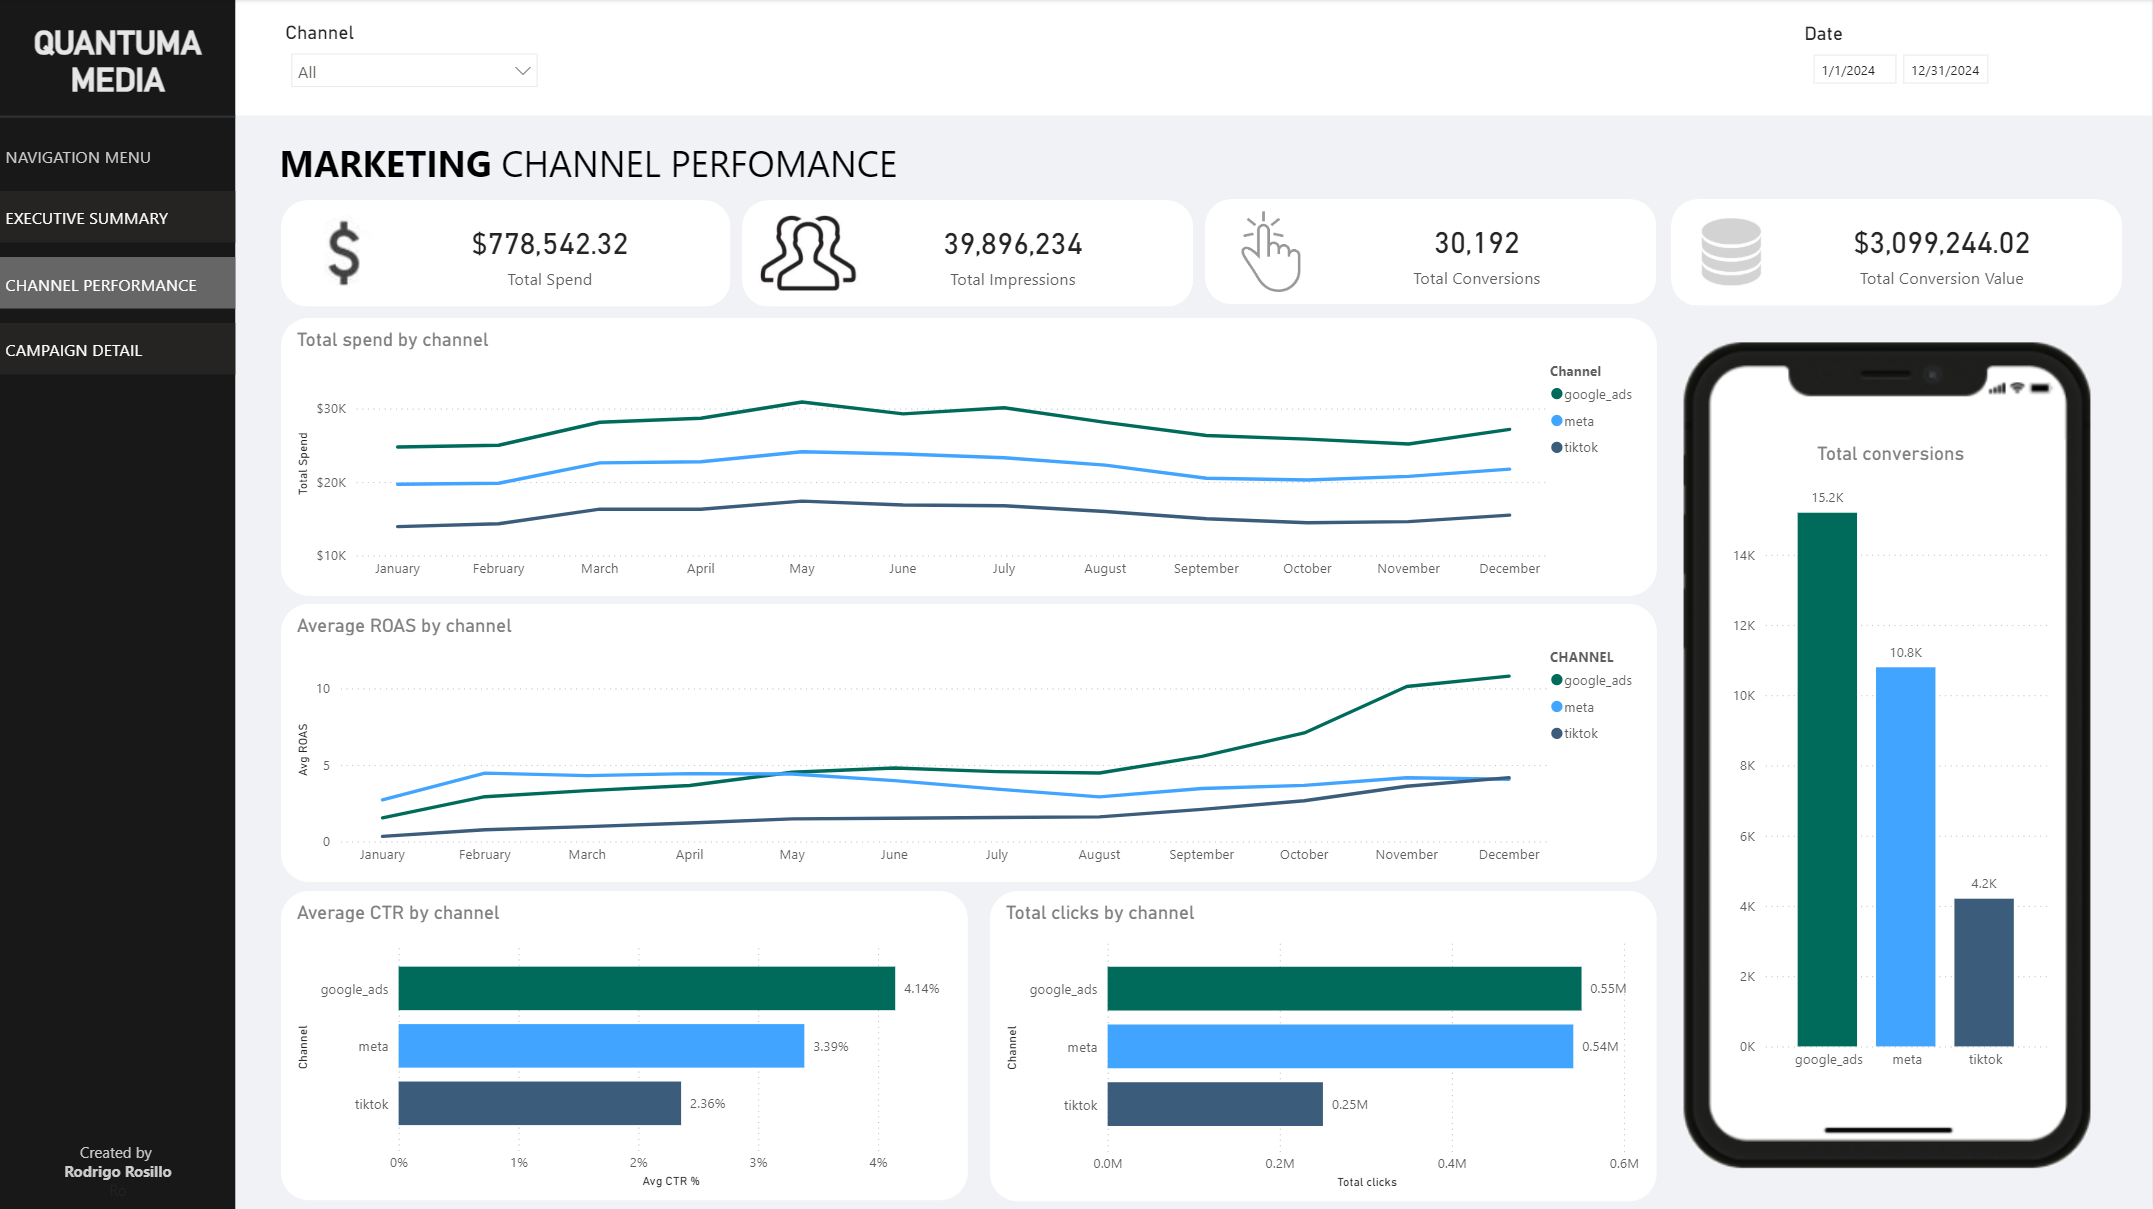

What the dashboard file says about the page in this screenshot:
{"tool":"powerbi","page":{"name":"Channel Performance","canvas":[1920,1080],"ordinal":1},"visuals":[{"type":"image","box":[1460.7,276.3,459.3,783.9],"z":0},{"type":"shape","box":[0,0,1920.6,103.9],"z":1000},{"type":"shape","box":[0,0,210.5,1080],"z":2000},{"type":"shape","box":[0,83.8,210.4,42.3],"z":3000},{"type":"textbox","box":[0,124.6,210.5,34.2],"z":4000},{"type":"shape","box":[0,171.3,210.5,46],"z":5000},{"type":"textbox","title":"(2) Pages 1 - TXT 1","box":[0,179.7,210.6,37.1],"z":6000},{"type":"shape","box":[0,230.4,210.5,46],"z":7000},{"type":"textbox","title":"(2) Pages 1 - TXT 1","box":[0,238.8,210.6,37.1],"z":8000},{"type":"shape","title":"(2) Pages 2 - Click","box":[0,170.5,211.1,46.1],"z":9000},{"type":"shape","box":[0,289.1,210.5,46],"z":10000},{"type":"textbox","title":"(2) Pages 1 - TXT 1","box":[0,297.5,210.6,37.1],"z":11000},{"type":"shape","title":"(2) Pages 2 - Click","box":[0,288.5,211.1,47],"z":12000},{"type":"textbox","box":[245,118.5,695.4,63.2],"z":13000},{"type":"slicer","title":"Channel","fields":{"Values":["FCT_CHANNEL_DAILY.CHANNEL"]},"box":[250.3,19.6,240.5,72.6],"z":14000},{"type":"shape","box":[250.5,179.4,401.4,95.4],"z":15000},{"type":"card","fields":{"Values":["Sum(FCT_CHANNEL_DAILY.TOTAL_SPEND)"]},"box":[331.5,179.6,319.4,95],"z":16000},{"type":"shape","box":[662,179.6,402.8,95.4],"z":17000},{"type":"card","fields":{"Values":["Sum(FCT_CHANNEL_DAILY.TOTAL_IMPRESSIONS)"]},"box":[744.2,179.6,319.4,95],"z":18000},{"type":"shape","box":[1076,178.9,402.8,93.9],"z":19000},{"type":"card","fields":{"Values":["Sum(FCT_CHANNEL_DAILY.TOTAL_CONVERSIONS)"]},"box":[1158.6,177.8,319.4,96.7],"z":20000},{"type":"shape","box":[1491.5,178.6,402.8,95.4],"z":21000},{"type":"card","fields":{"Values":["Sum(FCT_CHANNEL_DAILY.TOTAL_CONVERSION_VALUE)"]},"box":[1572.9,177.8,321.2,96.7],"z":22000},{"type":"image","box":[1509.8,185.3,70.1,80.2],"z":23000},{"type":"image","box":[1091.6,178.9,82.6,93.9],"z":24000},{"type":"slicer","title":"Date","fields":{"Values":["FCT_CHANNEL_DAILY.DATE"]},"box":[1605.9,20.6,314.1,105],"z":25000},{"type":"lineChart","title":"Total spend by channel","fields":{"Y":["Sum(FCT_CHANNEL_DAILY.TOTAL_SPEND)"],"Series":["FCT_CHANNEL_DAILY.CHANNEL"],"Category":["FCT_CHANNEL_DAILY.DATE.Variation.Date Hierarchy.Month","FCT_CHANNEL_DAILY.DATE.Variation.Date Hierarchy.Day"]},"box":[250.7,284.8,1227.8,248],"z":26000},{"type":"lineChart","title":"Average ROAS by channel","fields":{"Series":["FCT_CHANNEL_DAILY.CHANNEL"],"Y":["Avg(FCT_CHANNEL_DAILY.AVG_ROAS)"],"Category":["FCT_CHANNEL_DAILY.DATE.Variation.Date Hierarchy.Month","FCT_CHANNEL_DAILY.DATE.Variation.Date Hierarchy.Day"]},"box":[250.7,540.1,1227.8,248],"z":27000},{"type":"clusteredBarChart","title":"Average CTR by channel","fields":{"Category":["FCT_CHANNEL_DAILY.CHANNEL"],"Y":["FCT_CHANNEL_DAILY.Avg CTR %"]},"box":[250.7,796.4,613,275.6],"z":28000},{"type":"columnChart","title":"Total conversions","fields":{"Category":["FCT_CHANNEL_DAILY.CHANNEL"],"Y":["Sum(FCT_CHANNEL_DAILY.TOTAL_CONVERSIONS)"]},"box":[1532.9,386.2,307.9,584.4],"z":29000},{"type":"clusteredBarChart","title":"Total clicks by channel","fields":{"Category":["FCT_CHANNEL_DAILY.CHANNEL"],"Y":["Sum(FCT_CHANNEL_DAILY.TOTAL_CLICKS)"]},"box":[884,796.4,594.5,276.5],"z":30000},{"type":"textbox","box":[0,1015.5,210.5,64.5],"z":31000},{"type":"textbox","box":[0,0,210.2,105.1],"z":32000},{"type":"image","box":[259.9,179.7,94,94.9],"z":33000},{"type":"image","box":[671,178.8,101.4,97.7],"z":34000},{"type":"shape","box":[0,345.4,210.6,46.4],"z":34001},{"type":"textbox","title":"(2) Pages 1 - TXT 1","box":[0,349.9,210.6,37.5],"z":34002},{"type":"shape","title":"(2) Pages 2 - Click","box":[0,344.5,209.8,47.3],"z":34003}]}

Visuals, with their boxes on the page's 1920x1080 design canvas (x1, y1, x2, y2). These are canvas units, not pixel positions in the 2153x1209 screenshot, which may show the page scaled, cropped or inside an application window:
image: (1461,276,1920,1060)
shape: (0,0,1921,104)
shape: (0,0,210,1080)
shape: (0,84,210,126)
textbox: (0,125,210,159)
shape: (0,171,210,217)
"(2) Pages 1 - TXT 1" textbox: (0,180,211,217)
shape: (0,230,210,276)
"(2) Pages 1 - TXT 1" textbox: (0,239,211,276)
"(2) Pages 2 - Click" shape: (0,170,211,217)
shape: (0,289,210,335)
"(2) Pages 1 - TXT 1" textbox: (0,298,211,335)
"(2) Pages 2 - Click" shape: (0,288,211,336)
textbox: (245,118,940,182)
"Channel" slicer: (250,20,491,92)
shape: (250,179,652,275)
card - Sum(FCT_CHANNEL_DAILY.TOTAL_SPEND): (332,180,651,275)
shape: (662,180,1065,275)
card - Sum(FCT_CHANNEL_DAILY.TOTAL_IMPRESSIONS): (744,180,1064,275)
shape: (1076,179,1479,273)
card - Sum(FCT_CHANNEL_DAILY.TOTAL_CONVERSIONS): (1159,178,1478,274)
shape: (1492,179,1894,274)
card - Sum(FCT_CHANNEL_DAILY.TOTAL_CONVERSION_VALUE): (1573,178,1894,274)
image: (1510,185,1580,266)
image: (1092,179,1174,273)
"Date" slicer: (1606,21,1920,126)
"Total spend by channel" lineChart: (251,285,1478,533)
"Average ROAS by channel" lineChart: (251,540,1478,788)
"Average CTR by channel" clusteredBarChart: (251,796,864,1072)
"Total conversions" columnChart: (1533,386,1841,971)
"Total clicks by channel" clusteredBarChart: (884,796,1478,1073)
textbox: (0,1016,210,1080)
textbox: (0,0,210,105)
image: (260,180,354,275)
image: (671,179,772,276)
shape: (0,345,211,392)
"(2) Pages 1 - TXT 1" textbox: (0,350,211,387)
"(2) Pages 2 - Click" shape: (0,344,210,392)
